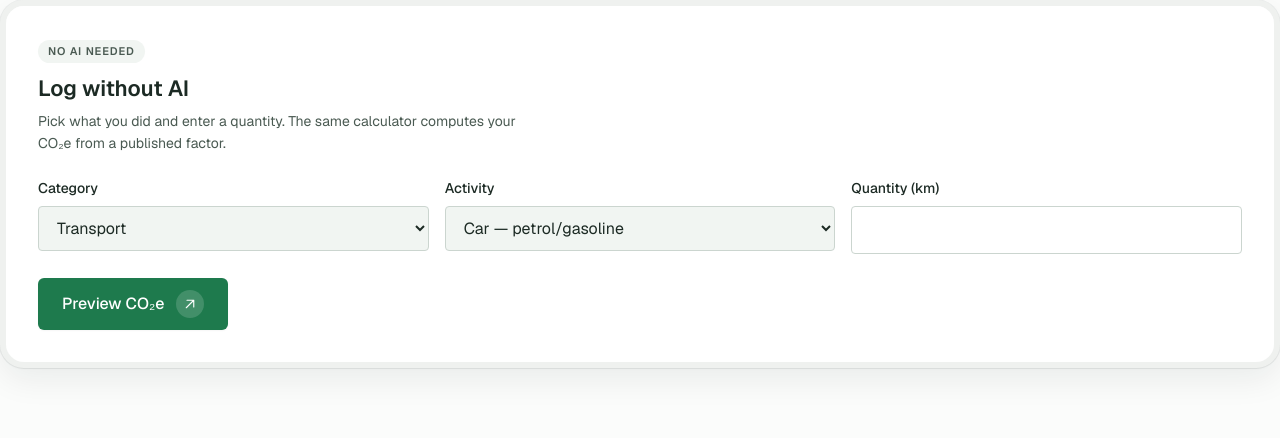
Test case: FallbackForm — AI-free, same calculator › validates a missing quantity inline and preserves input
This screenshot has width=1280, height=438.
Click the button "Preview CO₂e": (133, 304) [38,278,228,330]
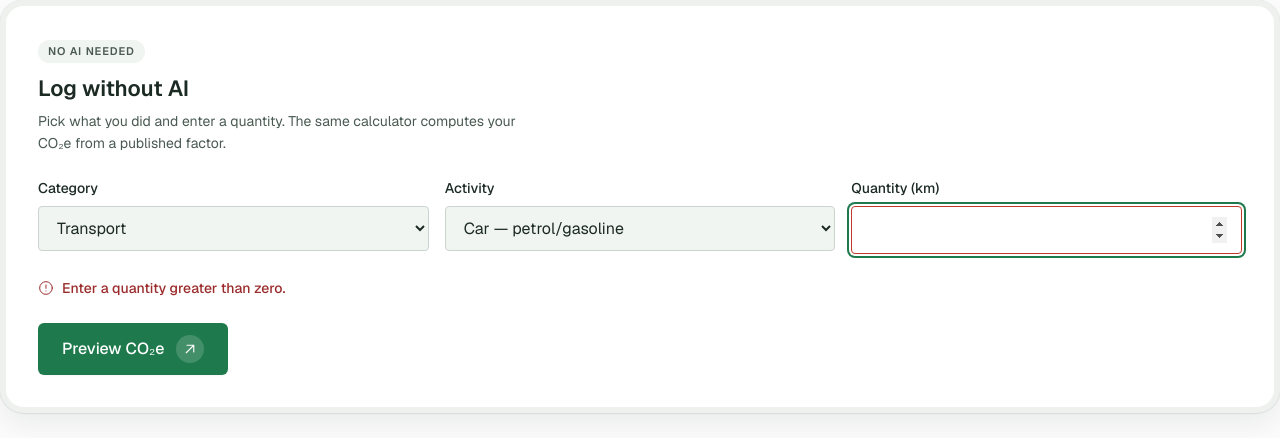
Result: the text "Enter a quantity greater than zero." is shown at [38,278,285,296]
